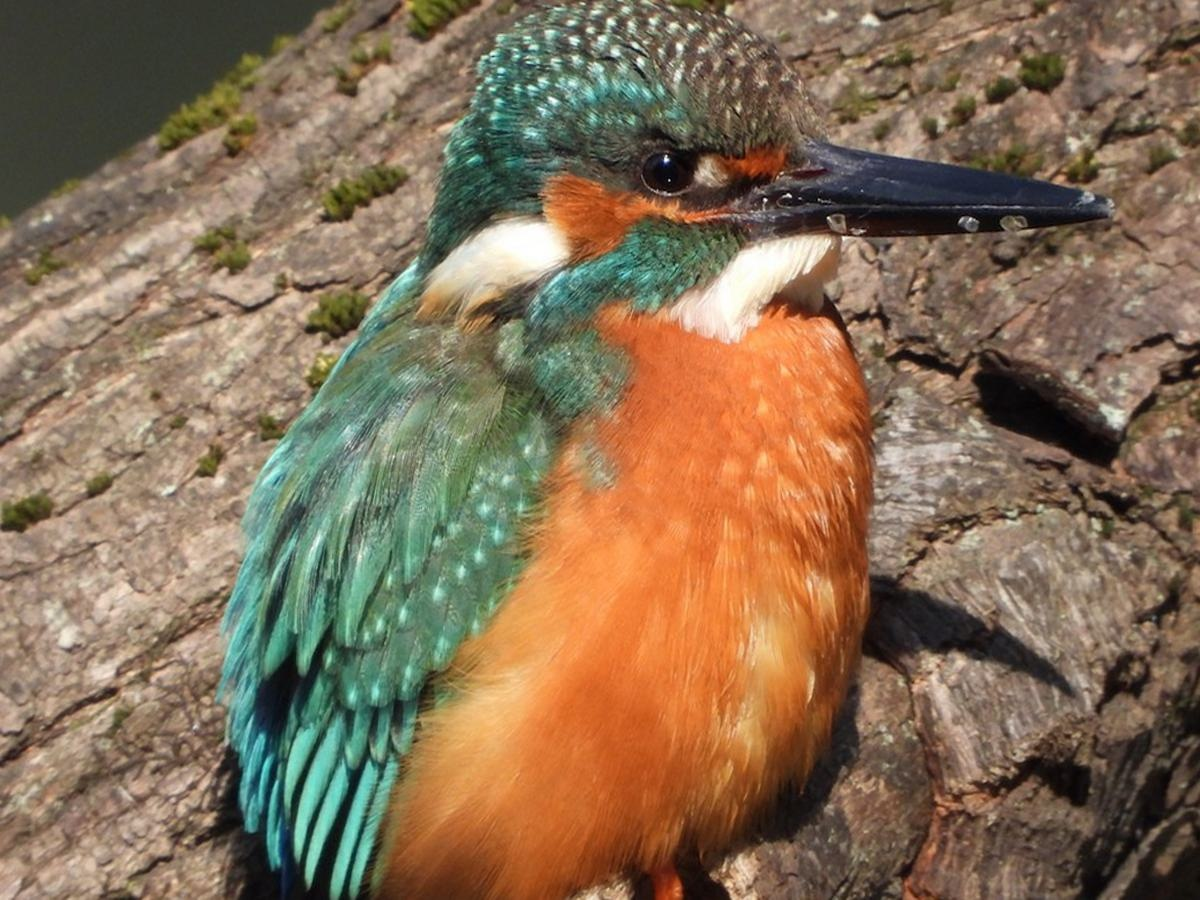kingfisher: (243, 10, 1118, 876)
